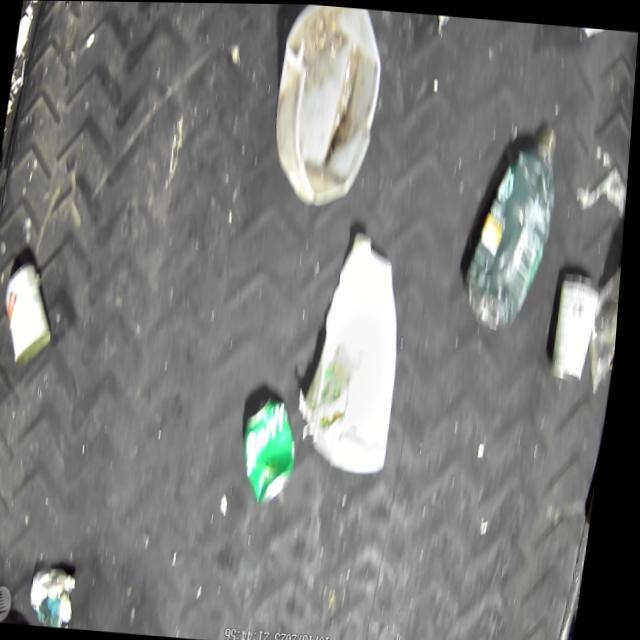can: (238, 390, 309, 507), (0, 258, 64, 371), (551, 266, 605, 384)
milk_jug: (300, 225, 421, 475)
